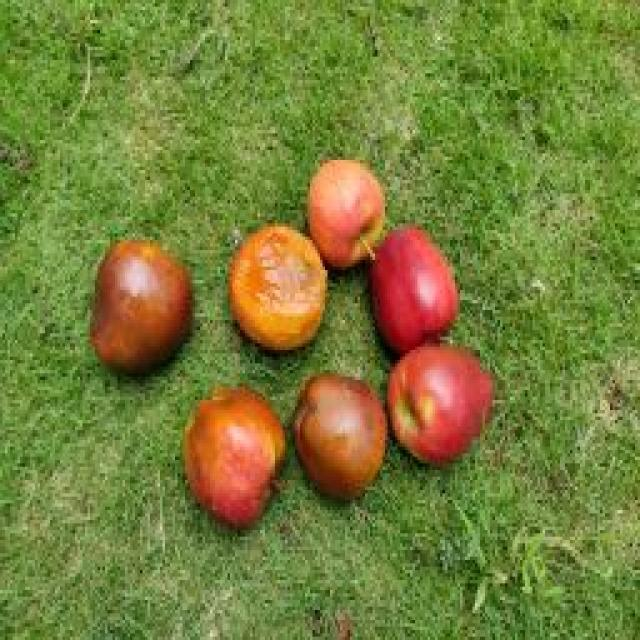Organik: (166, 379, 290, 536), (73, 228, 205, 374), (379, 339, 508, 476), (278, 364, 395, 507), (225, 222, 330, 361), (363, 221, 469, 358), (300, 149, 392, 272)
